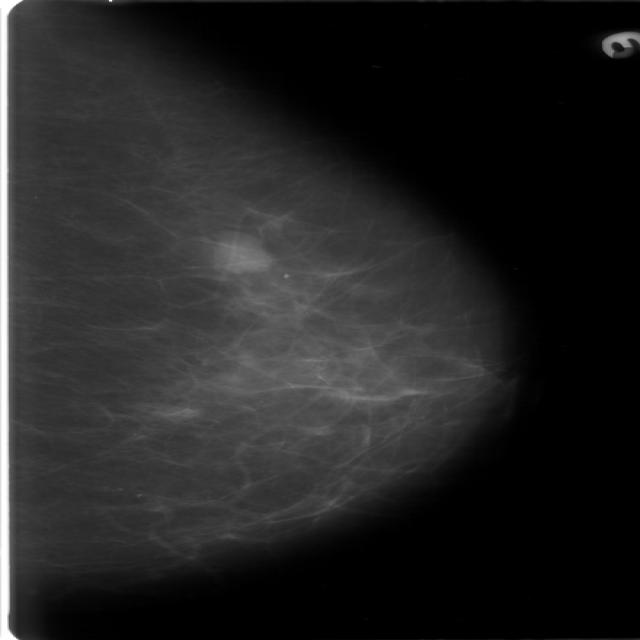tumour: (212, 228, 270, 274)
